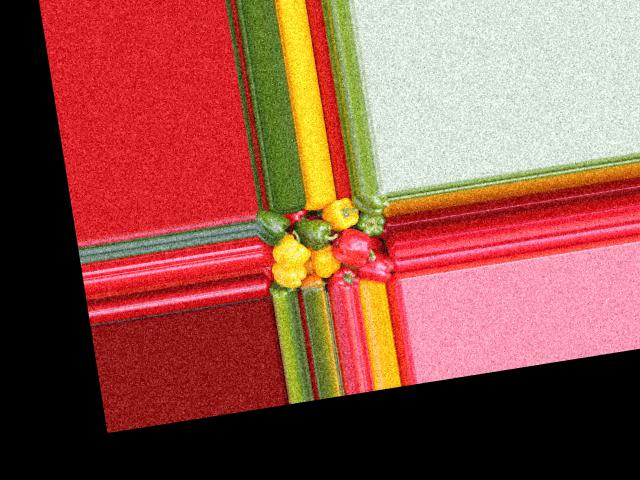bell_pepper: (269, 280, 301, 300)
